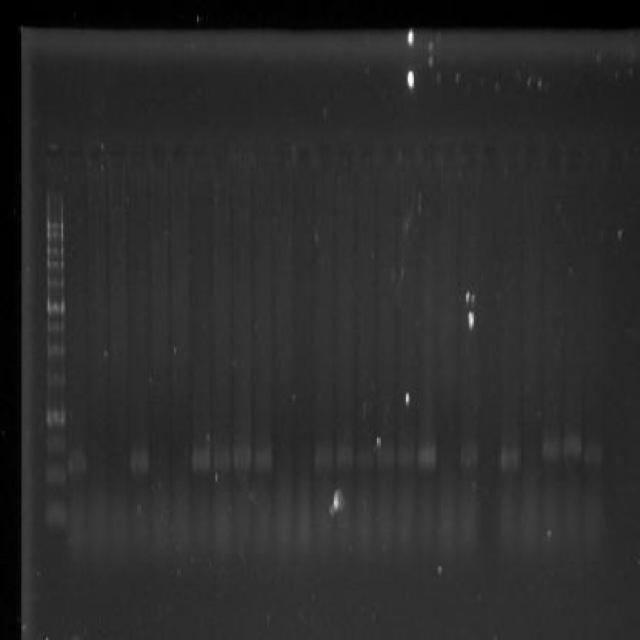B: (189, 432, 211, 476), (538, 428, 564, 464), (456, 441, 481, 477), (496, 442, 522, 476), (583, 436, 605, 472), (232, 440, 252, 478), (128, 444, 150, 478), (562, 432, 584, 465), (313, 441, 335, 474), (414, 442, 438, 472), (66, 446, 88, 477), (212, 442, 232, 476), (396, 439, 416, 472), (253, 443, 273, 474), (336, 440, 354, 474), (376, 441, 394, 474), (356, 442, 374, 469)
L: (42, 123, 628, 188)
M: (40, 188, 72, 546)
P: (44, 494, 68, 538), (44, 399, 67, 430), (44, 461, 67, 488), (44, 368, 67, 392), (45, 336, 67, 361), (45, 432, 67, 456), (44, 273, 66, 293), (46, 316, 66, 336), (46, 295, 66, 314), (46, 258, 66, 274), (46, 241, 66, 257), (46, 230, 65, 241), (46, 220, 65, 231)
Pc: (456, 130, 481, 172), (417, 132, 440, 172), (540, 136, 562, 176), (562, 140, 584, 180), (376, 134, 398, 171), (479, 131, 499, 171), (499, 131, 519, 171), (354, 136, 376, 172), (519, 136, 541, 172), (396, 138, 418, 174), (271, 136, 294, 170), (63, 137, 85, 171), (148, 136, 170, 170), (292, 136, 314, 170), (250, 133, 270, 170), (188, 136, 210, 169), (584, 144, 604, 180), (85, 138, 106, 172), (106, 134, 128, 166), (43, 138, 63, 172), (128, 134, 148, 168), (232, 136, 252, 170), (211, 137, 232, 168), (605, 143, 624, 177), (440, 134, 457, 172), (314, 137, 336, 166), (335, 137, 353, 171), (170, 134, 188, 166)
